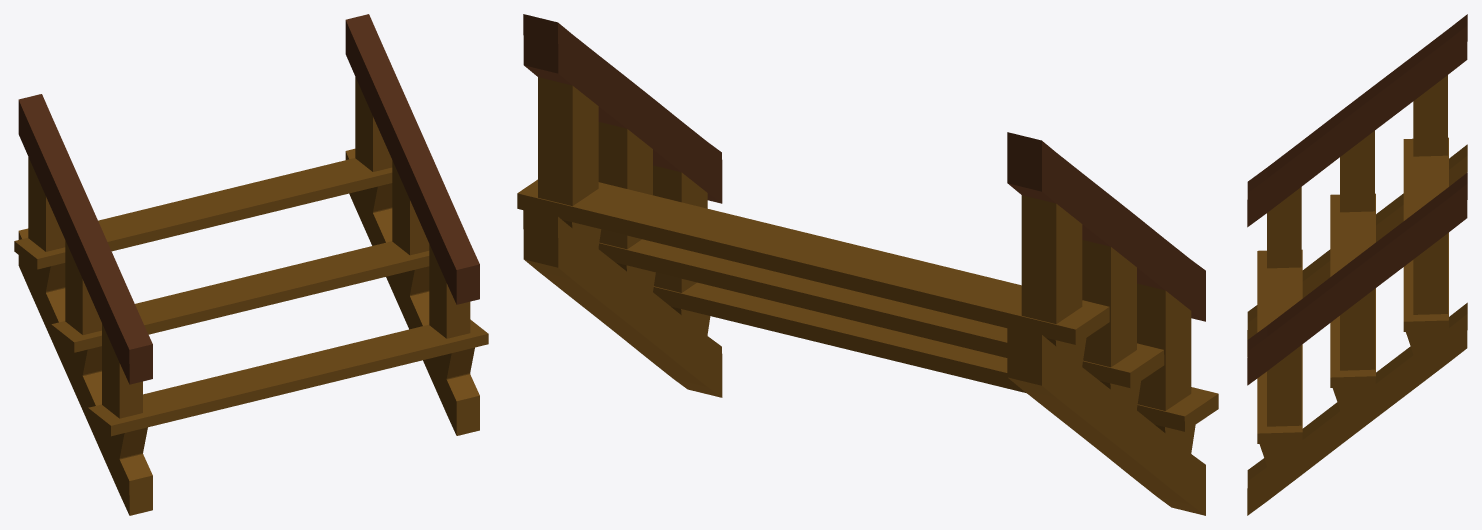
File: 27.06_Bubuia_escada1-1.fbx
3 renders of one model, left to right at view 1: azimuth 30°, elevation 25°; view 2: azimuth 150°, elevation 25°; view 3: azimuth 270°, elevation 25°, orthographic. The views are drawn at different scales.
Visible parts, largest first — view 1: Cube; view 2: Cube; view 3: Cube.
Part boxes in pixels (x1,y1,x2,y2): Cube: (14,14,488,515); Cube: (517,14,1218,515); Cube: (1247,14,1467,515).
Size of the model in its own units: 1.72 by 1.46 by 0.8765.
